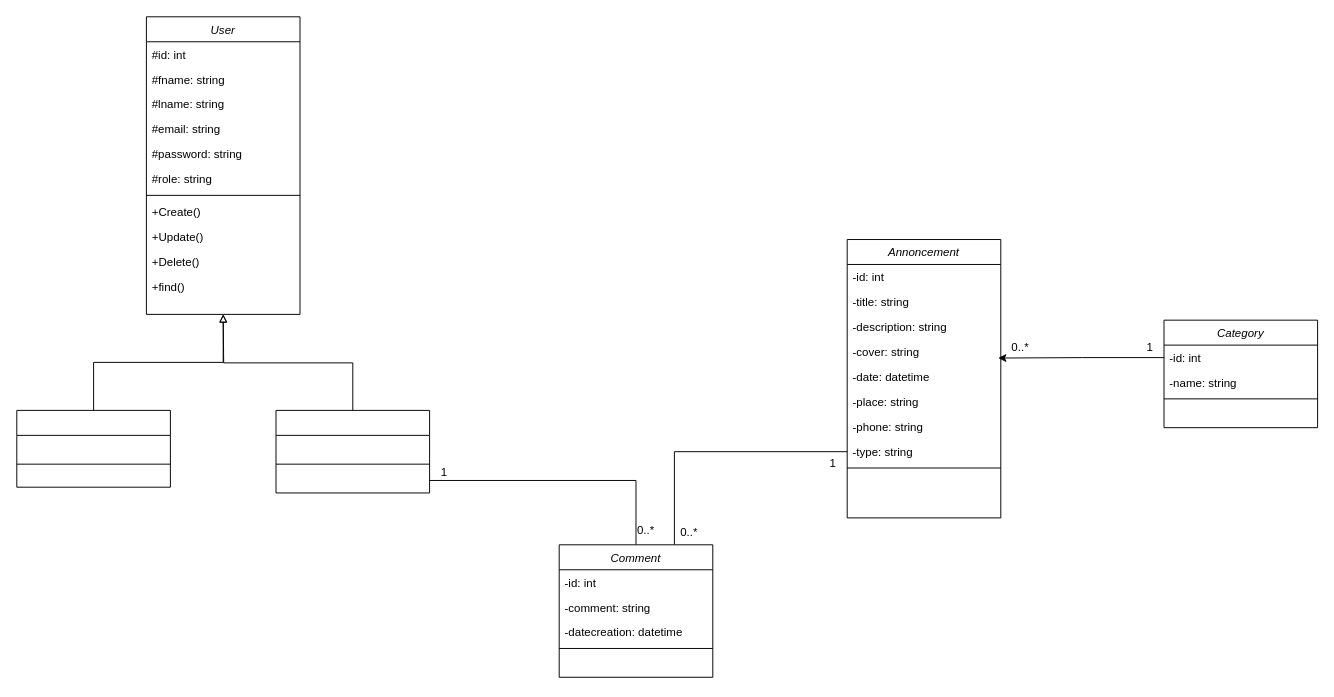
Image size: 1334x697. Some labels were removed from this diagram. The centre of each missing label's shape, as x and y in pixels:
Admin: the point at 93,448
Member: the point at 352,451
